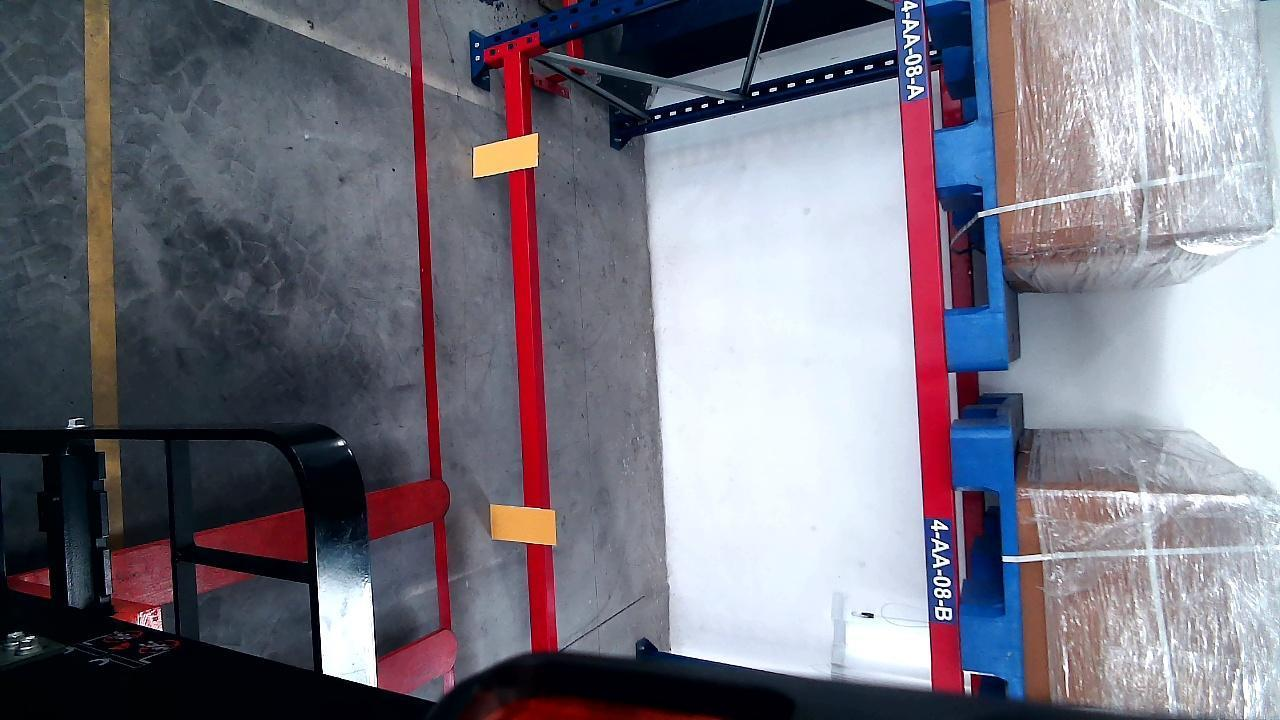h_rack: (895, 4, 958, 687), (504, 41, 553, 663)
orange_strip: (473, 133, 539, 177), (490, 504, 556, 545)
red_line: (411, 0, 459, 627)
small_pallet: (925, 0, 1012, 366), (955, 433, 1022, 698)
yellow_line: (85, 4, 118, 419)
